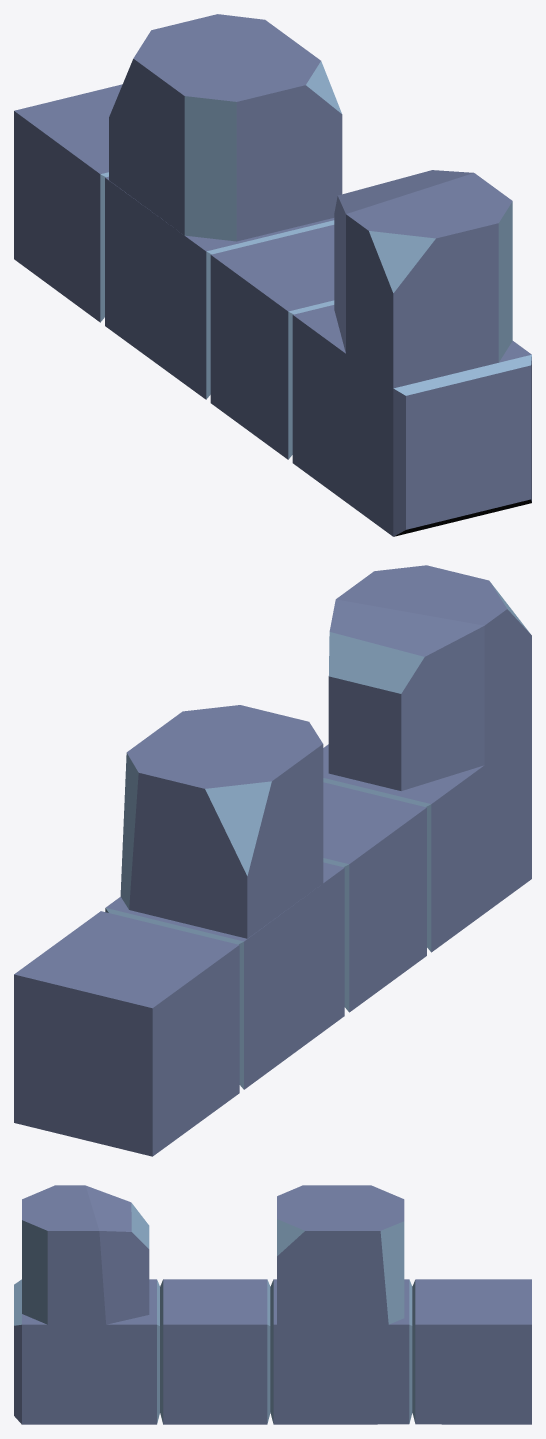
Rendered from Wall_Base_Balustrade_01.fbx.
3 renders of one model, top to bottom at view 1: azimuth 30°, elevation 25°; view 2: azimuth 150°, elevation 25°; view 3: azimuth 270°, elevation 25°, orthographic. The views are drawn at different scales.
Parts seen in each view (by area): view 1: Wall_Base_Balustrade_01; view 2: Wall_Base_Balustrade_01; view 3: Wall_Base_Balustrade_01.
Boxes of the visible parts, x1,y1,x2,y2 form: Wall_Base_Balustrade_01: (14, 14, 531, 536); Wall_Base_Balustrade_01: (14, 565, 531, 1156); Wall_Base_Balustrade_01: (14, 1185, 531, 1424).
Bounding box in the file's own units: 75.14 × 149 × 361.
